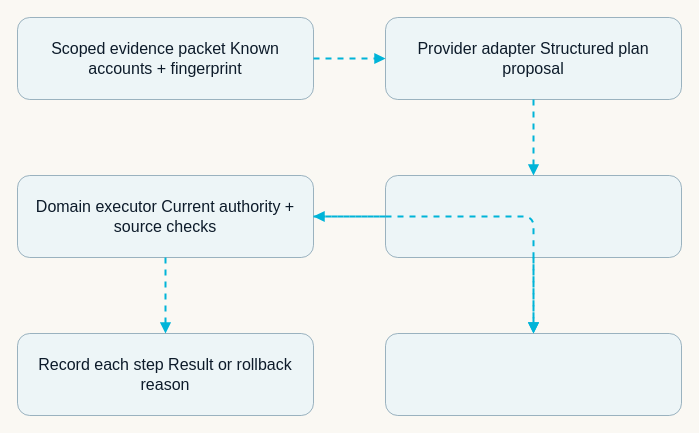
The diagram is 699 pixels wide and 433 high, and some of its shapes have lost their labels. The box of each missing label's shape, as (x1, y1, x2, y2) in pixels:
Reject the proposal No forbidden action executes: (384, 332, 682, 416)
Validate plan boundary Tools, scope, size, uniqueness: (384, 174, 682, 258)
